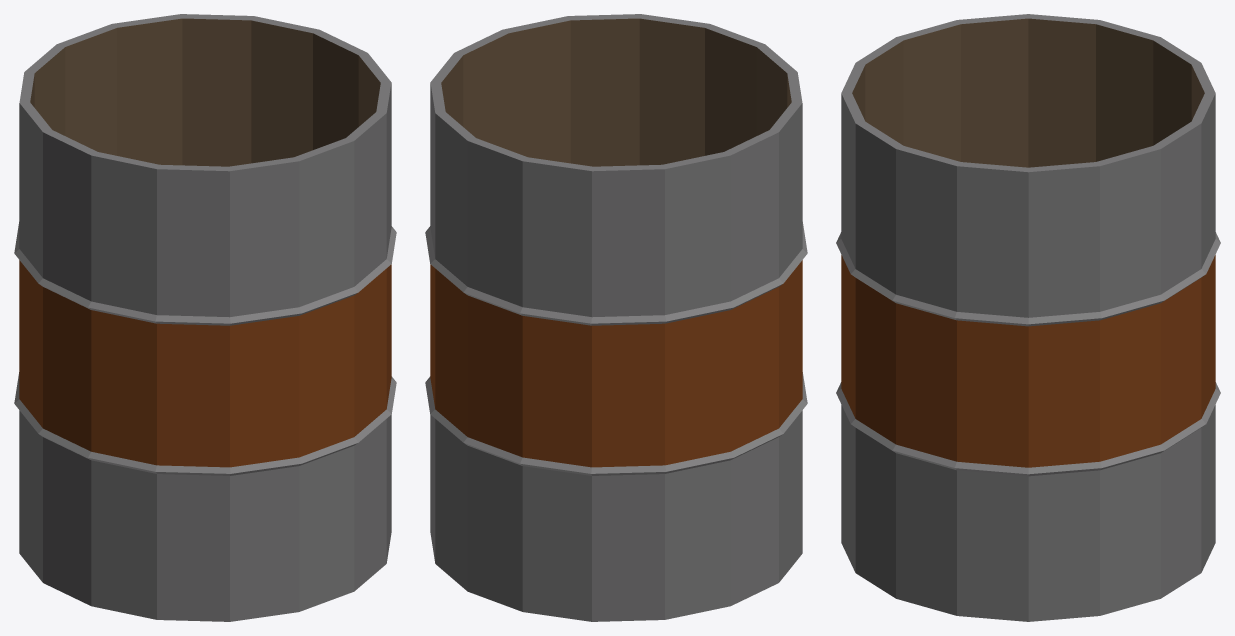
The model's file is SM_barrel_3.gltf.
3 views of the same model, side by side, from view 1: azimuth 30°, elevation 25°; view 2: azimuth 150°, elevation 25°; view 3: azimuth 270°, elevation 25° (orthographic).
Parts seen in each view (by area): view 1: SM_barrel_3; view 2: SM_barrel_3; view 3: SM_barrel_3.
Part boxes in pixels (left/top/right/bottom): SM_barrel_3: left=14, top=14, right=396, bottom=621; SM_barrel_3: left=425, top=14, right=807, bottom=621; SM_barrel_3: left=836, top=14, right=1220, bottom=621.
Size of the model in its own units: 0.7243 by 0.9338 by 0.7243.
1 material, 1 textured.
